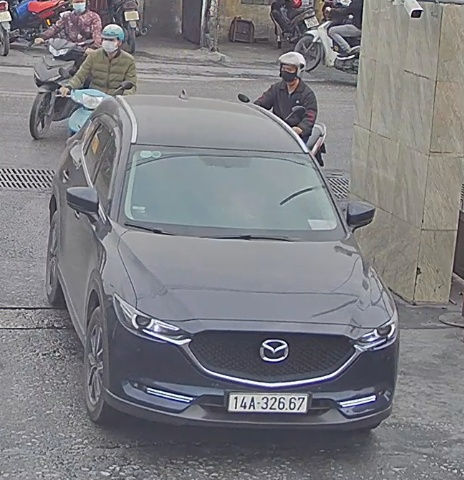vehicle plate: (223, 384, 314, 415)
